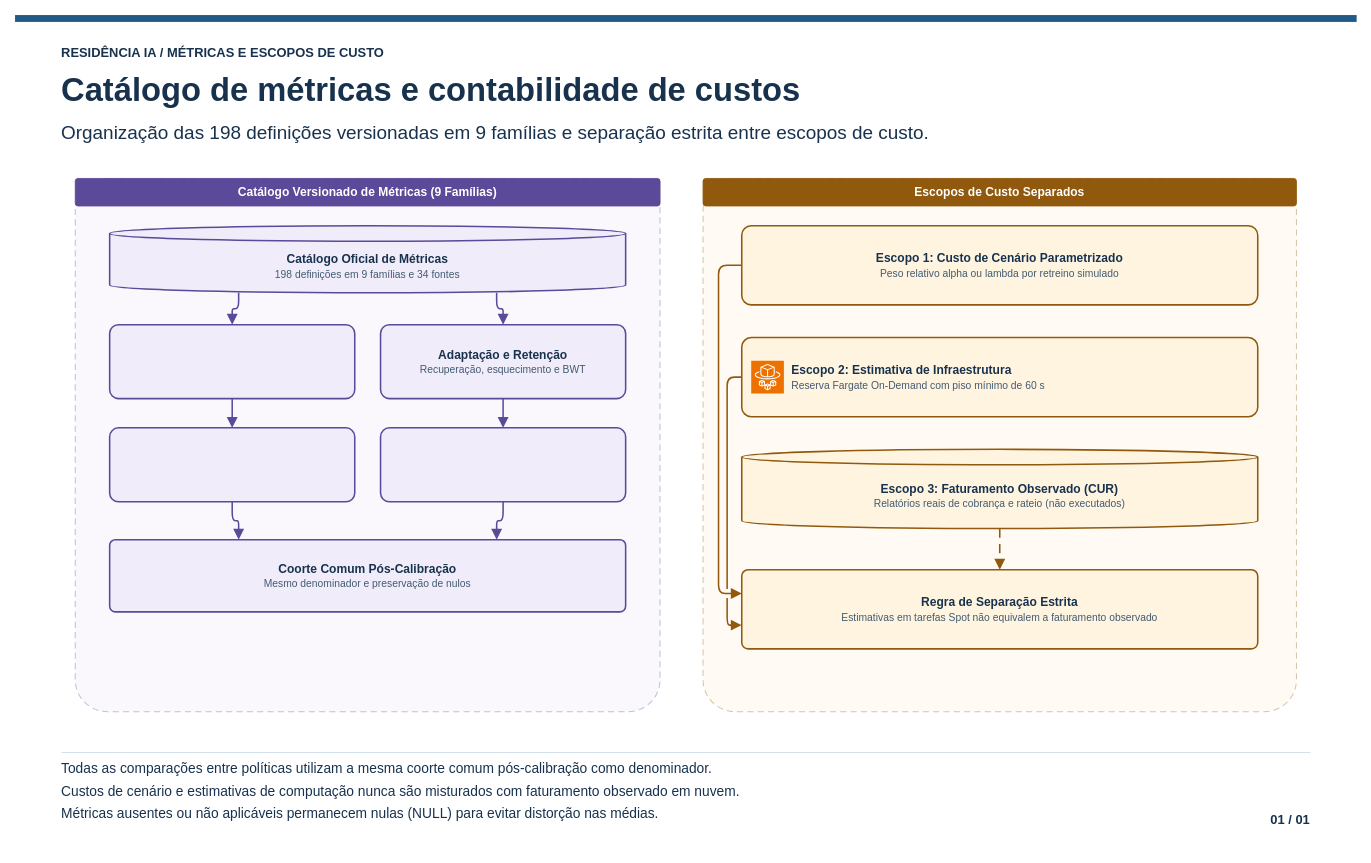
Some shapes in this 1371 by 863 pixel diagram are drawn without their labels. Each missing label, with the box of its shape:
Famílias Condicionais Regressão, MLOps, CI/CD e negócio: (379, 427, 626, 502)
Qualidade e Calibração Macro-F1, PR-AUC, Kappa e Brier: (108, 323, 355, 399)
Recursos Computacionais Tempo de parede, CPU e memória: (108, 427, 355, 502)
